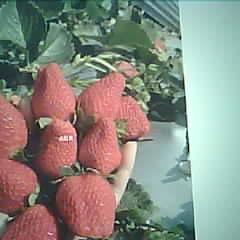straw-ripe: (57, 173, 115, 235), (31, 64, 77, 120), (78, 73, 124, 124), (36, 121, 77, 177), (79, 120, 120, 173)
